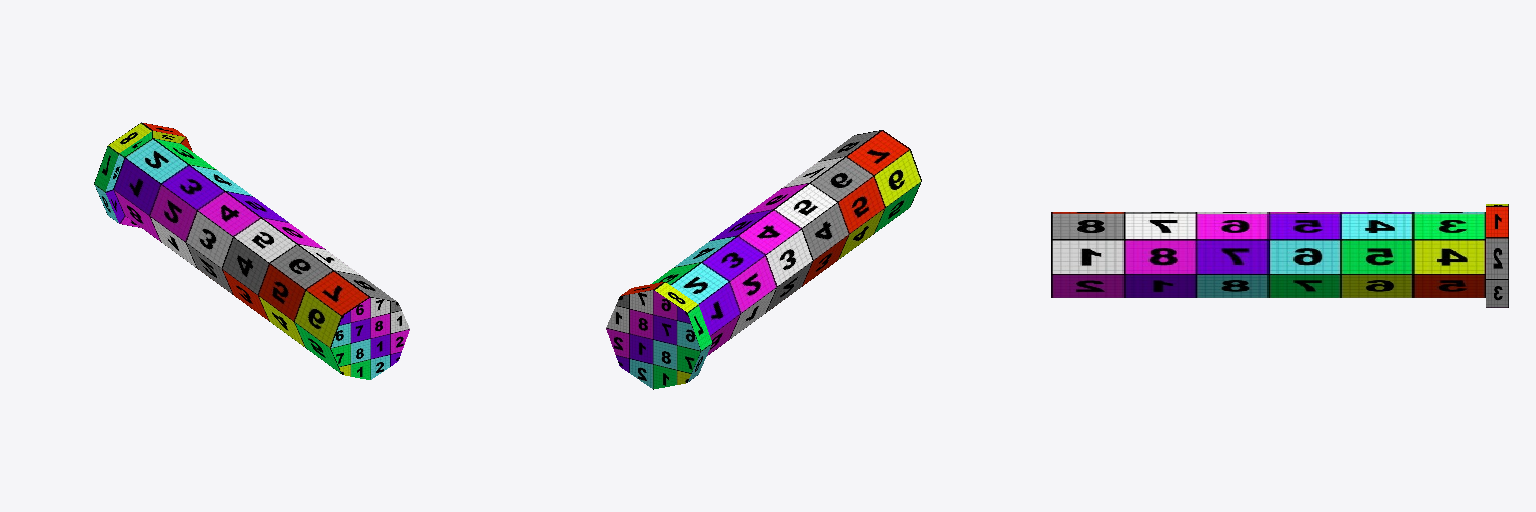
The picture shows the model from 3 angles: view 1: azimuth 30°, elevation 25°; view 2: azimuth 150°, elevation 25°; view 3: azimuth 270°, elevation 25°; orthographic projection.
Parts seen in each view (by area): view 1: pipe; view 2: pipe; view 3: pipe.
Boxes of the visible parts, <box> form: pipe: <box>94,122,409,379</box>; pipe: <box>606,130,921,389</box>; pipe: <box>1051,204,1508,307</box>.
Bounding box in the file's own units: 0.24 × 0.24 × 1.
1 materials, 1 textured.